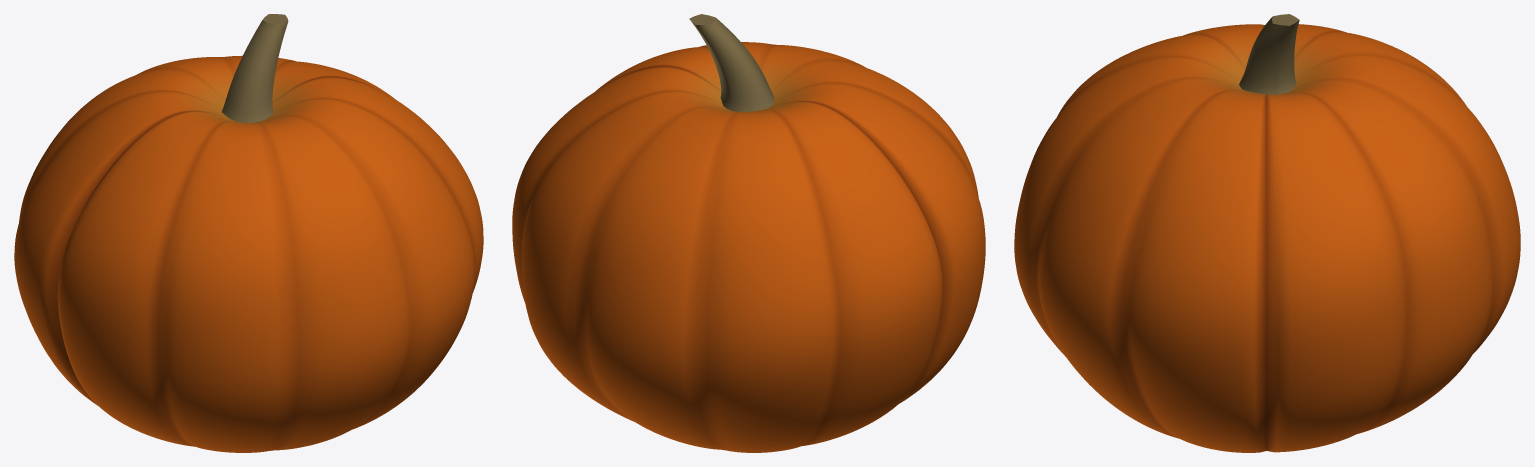
The model's file is pumpkin.glb.
3 views of the same model, side by side, from view 1: azimuth 30°, elevation 25°; view 2: azimuth 150°, elevation 25°; view 3: azimuth 270°, elevation 25° (orthographic). The views are drawn at different scales.
Visible parts, largest first — view 1: PumpkinShell, Stem; view 2: PumpkinShell, Stem; view 3: PumpkinShell, Stem.
Part boxes in pixels (bbox=[...]): PumpkinShell: bbox=[14, 55, 483, 452]; Stem: bbox=[221, 14, 288, 122]; PumpkinShell: bbox=[512, 42, 985, 452]; Stem: bbox=[689, 14, 774, 111]; PumpkinShell: bbox=[1014, 24, 1520, 452]; Stem: bbox=[1239, 14, 1299, 94].
Size of the model in its own units: 1.97 by 1.78 by 2.
